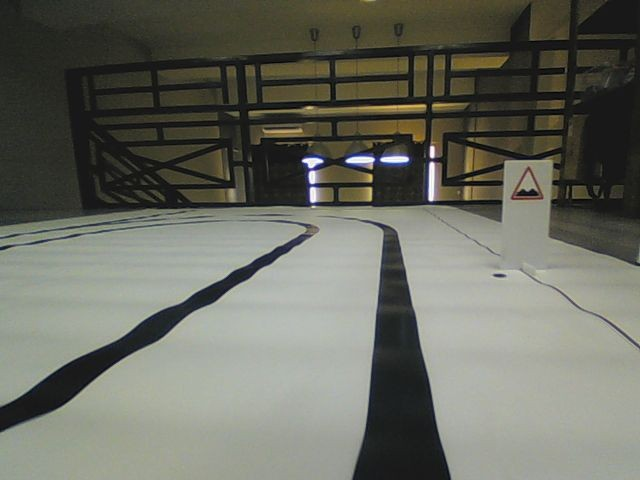Nerov: (510, 165, 544, 201)
